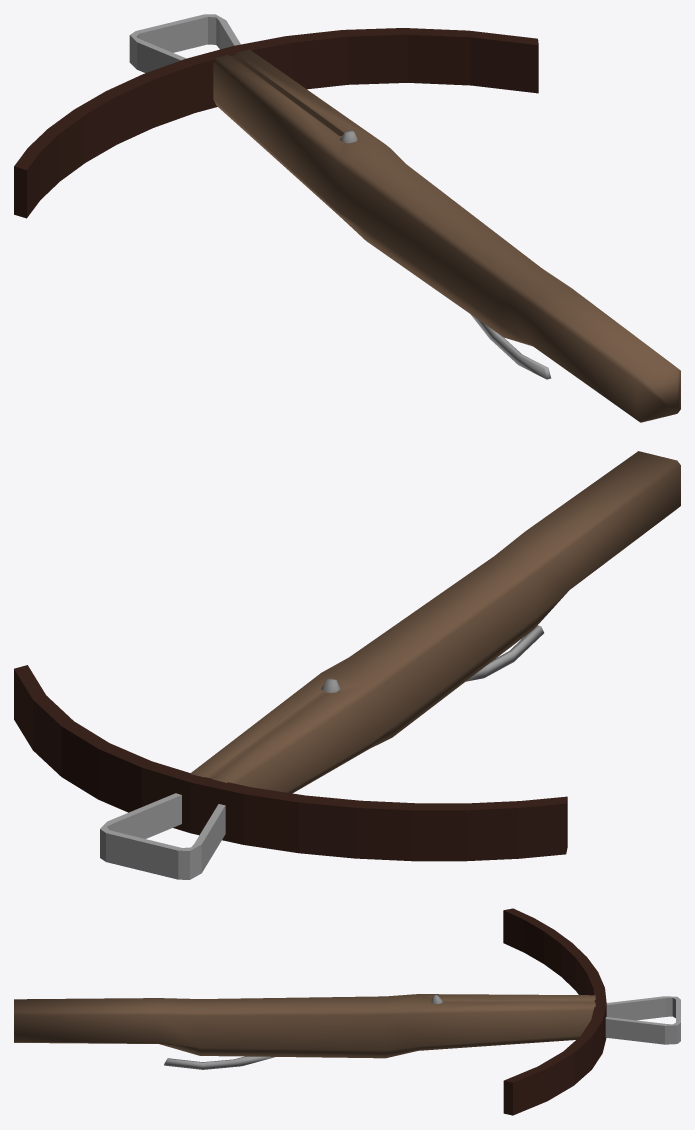
The model's file is Crossbow 1.fbx.
3 renders of one model, top to bottom at view 1: azimuth 30°, elevation 25°; view 2: azimuth 150°, elevation 25°; view 3: azimuth 270°, elevation 25°, orthographic. The views are drawn at different scales.
Parts seen in each view (by area): view 1: Handle, BowBit, Support, Trigger; view 2: Handle, BowBit, Support, Trigger; view 3: Handle, BowBit, Support, Trigger.
Part boxes in pixels (box(x1,y1,x2,y2)): Handle: box(213, 49, 680, 422); BowBit: box(14, 28, 538, 218); Support: box(129, 14, 240, 72); Trigger: box(470, 314, 551, 379); Handle: box(190, 451, 680, 793); BowBit: box(14, 665, 567, 861); Support: box(100, 793, 225, 879); Trigger: box(466, 625, 543, 681); Handle: box(14, 994, 595, 1058); BowBit: box(503, 908, 606, 1115); Support: box(605, 996, 680, 1044); Trigger: box(164, 1056, 274, 1069).
Size of the model in its own units: 127 by 24.89 by 205.
